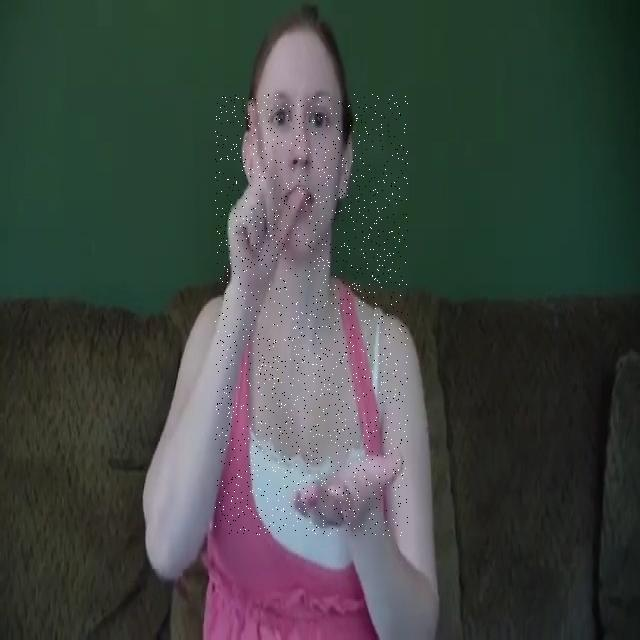chicken: (215, 94, 408, 536)
